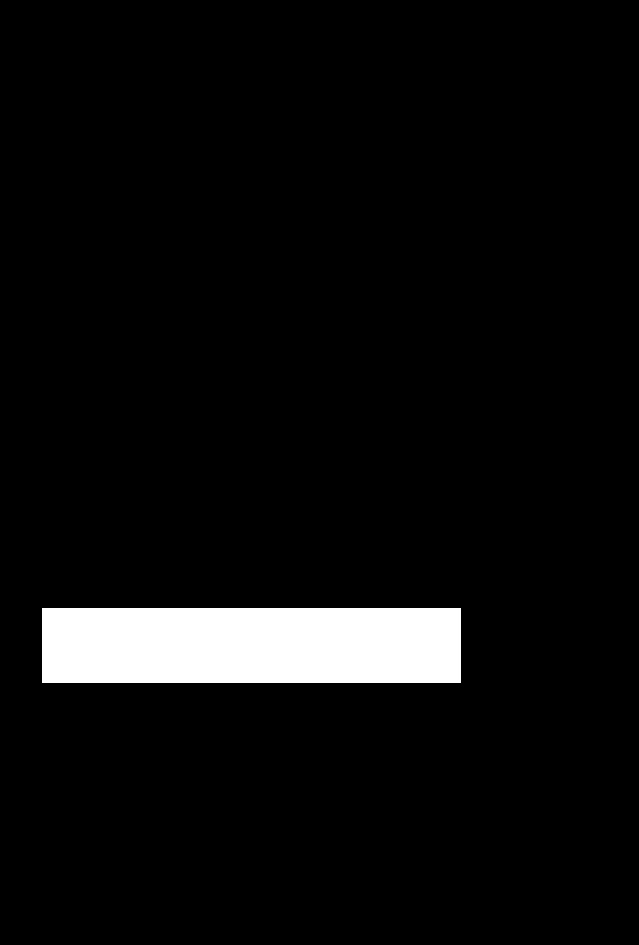table: (42, 608, 460, 682)
